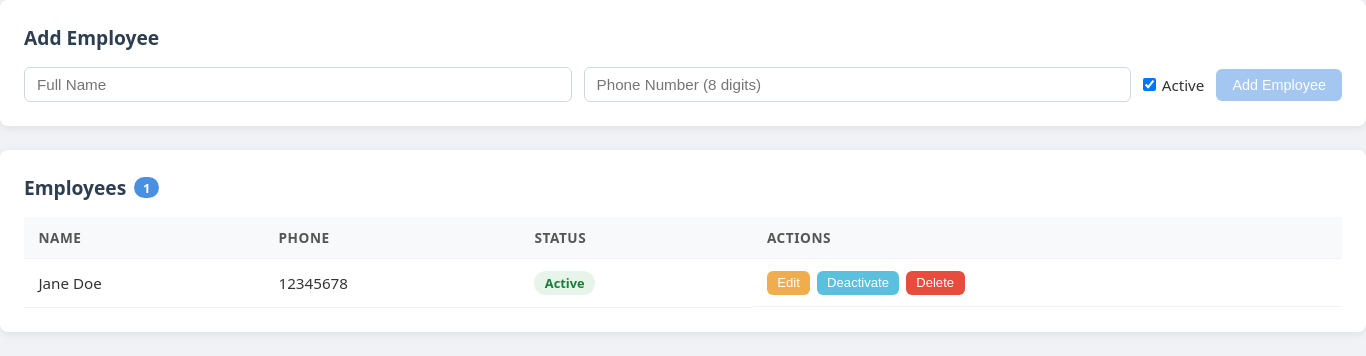
Scenario: edit employee › clicking Cancel restores view mode
Click the button with class "btn-edit" at (789, 283), box [767,271,810,295]
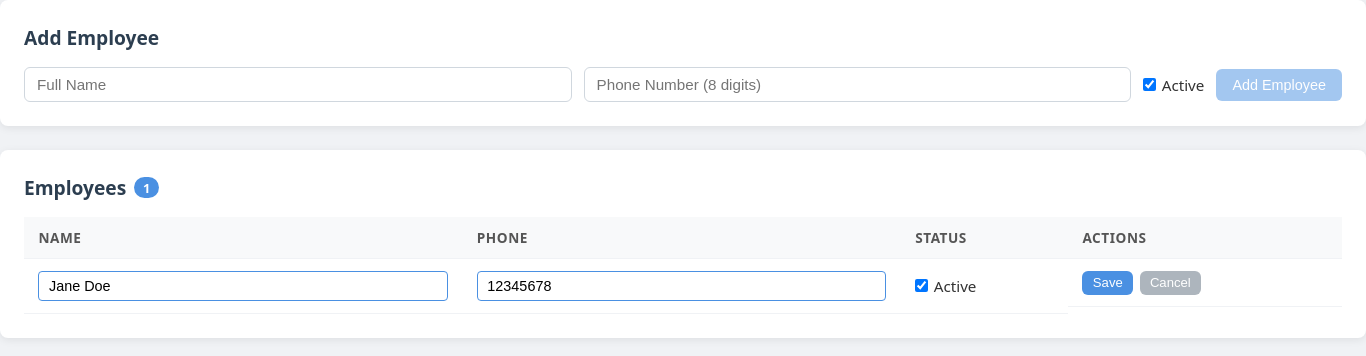
Click the button with class "btn-cancel" at (1170, 283), box [1140,271,1201,295]
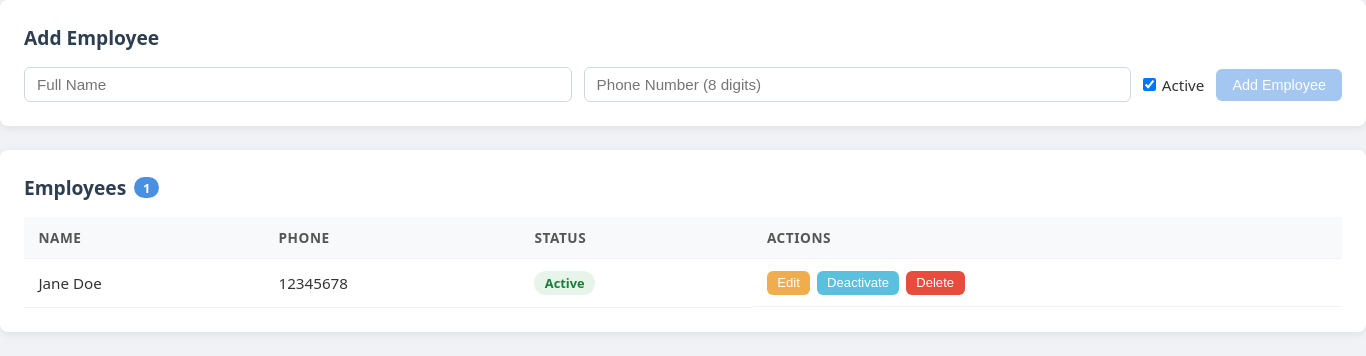
Result: the button with class "btn-edit" is shown at [767,271,810,295]
